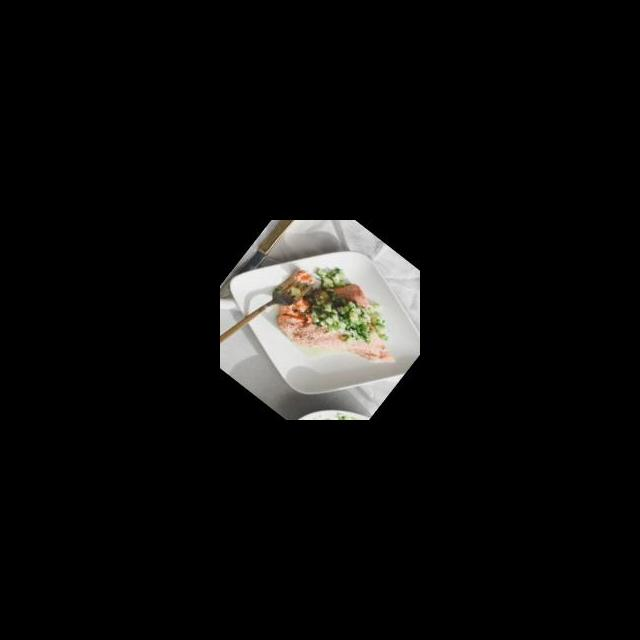ca hoi: (258, 248, 418, 402)
